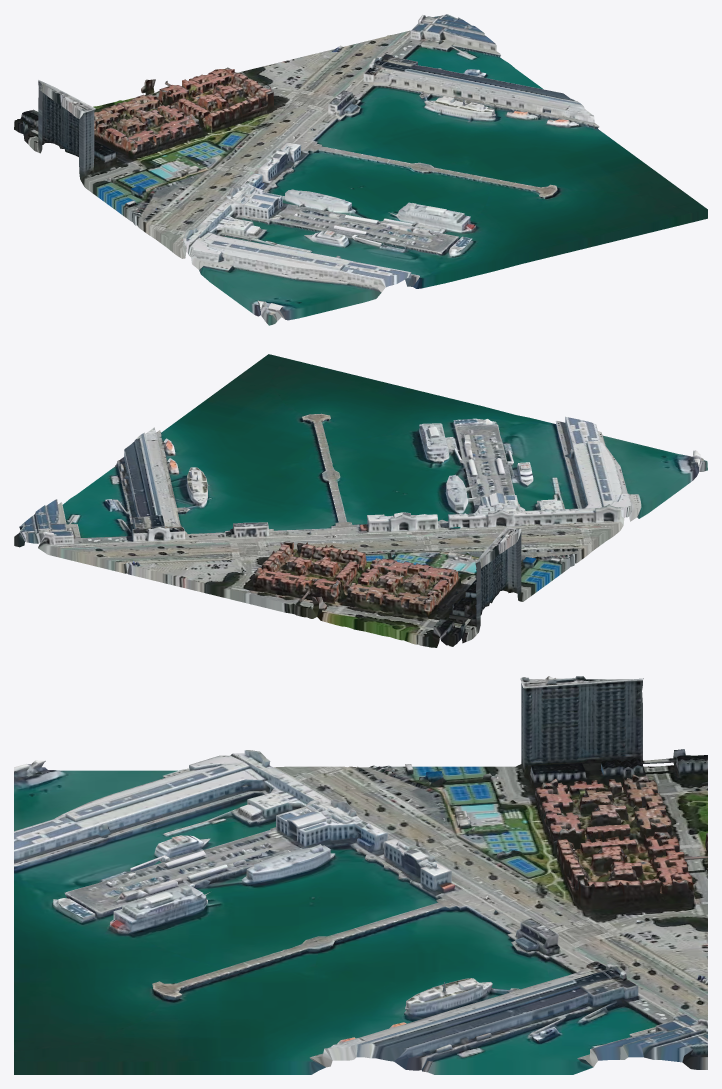
The model's file is z16-10486-25325-h0-yup-uvflip-v3-world.glb.
The picture shows the model from 3 angles, top to bottom: view 1: azimuth 30°, elevation 25°; view 2: azimuth 150°, elevation 25°; view 3: azimuth 270°, elevation 25°; orthographic projection. The views are drawn at different scales.
Size of the model in its own units: 483 by 83.2 by 485.
1 material, 1 textured.
